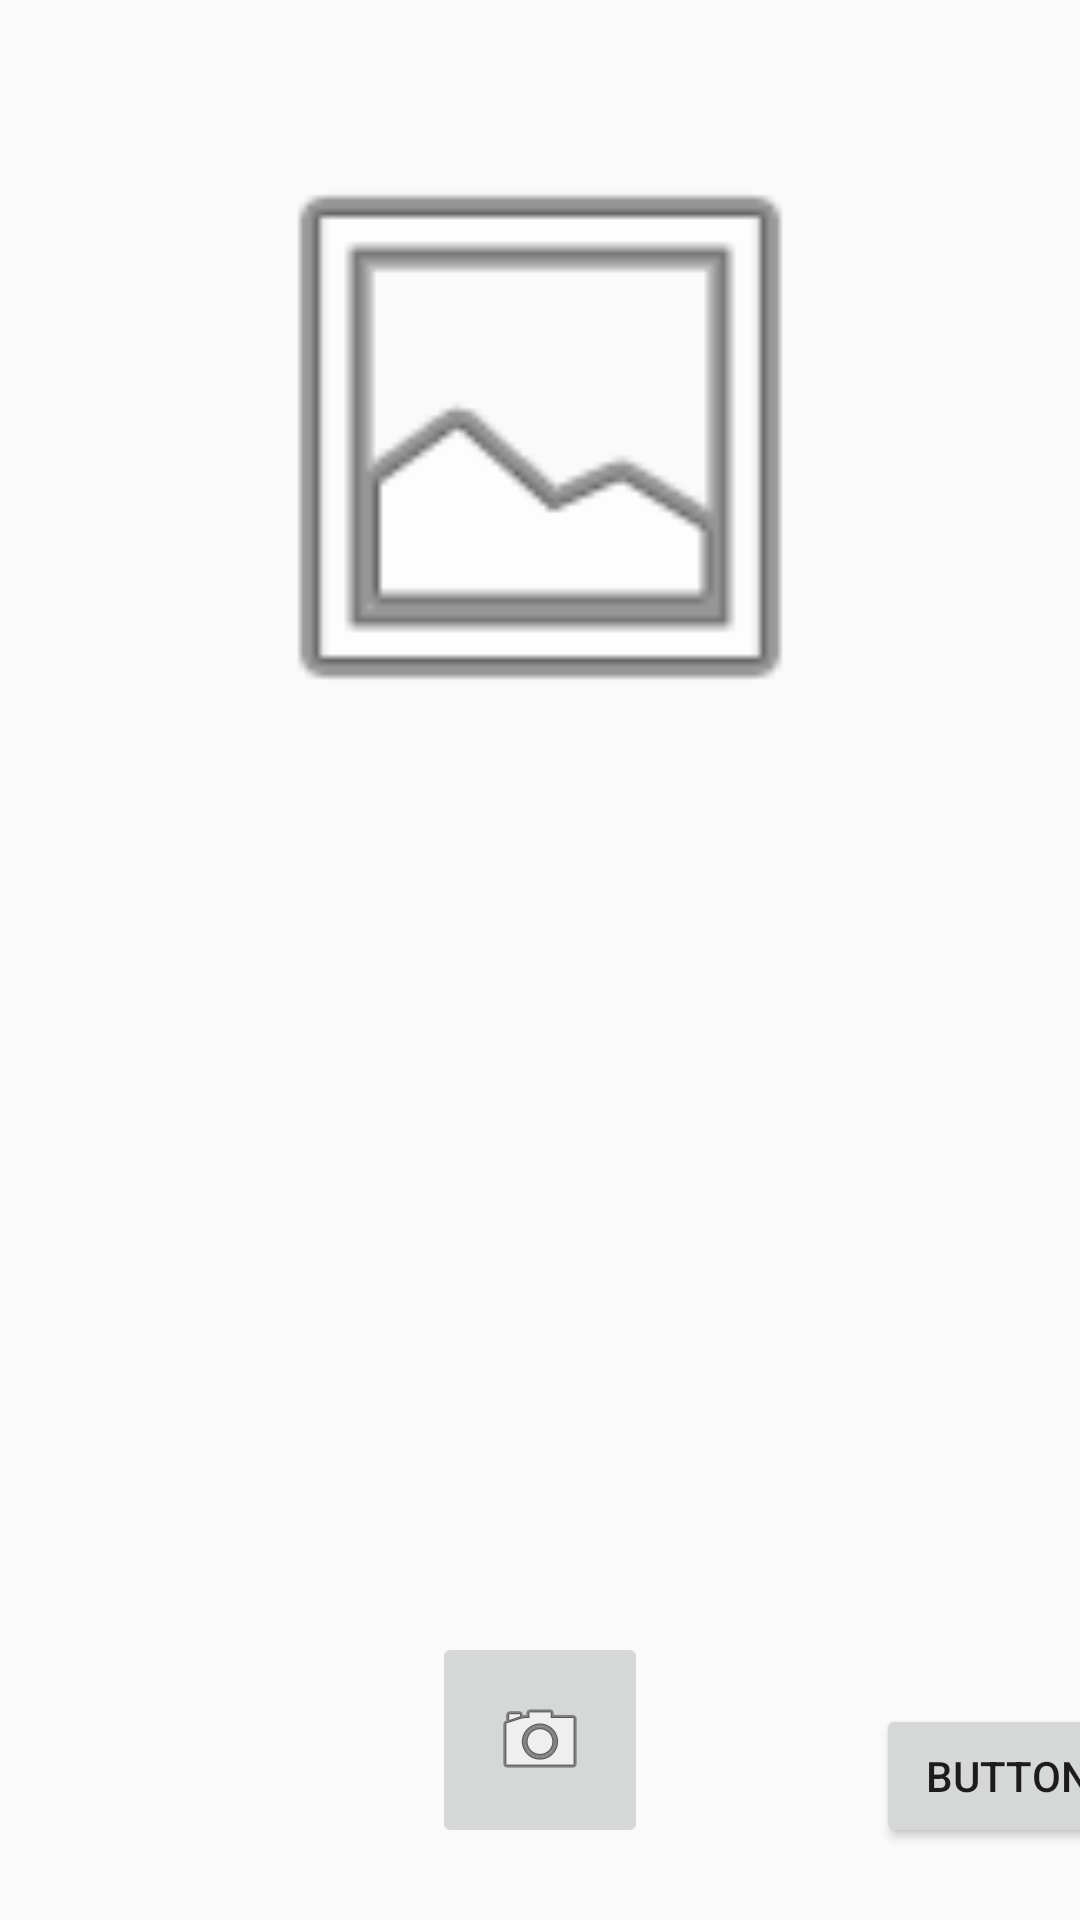

Screen size 1080×1920. Icon name, then its box in pixels as box=[x1, y1, x2, y2]:
camera: box=[444, 1650, 636, 1830]
